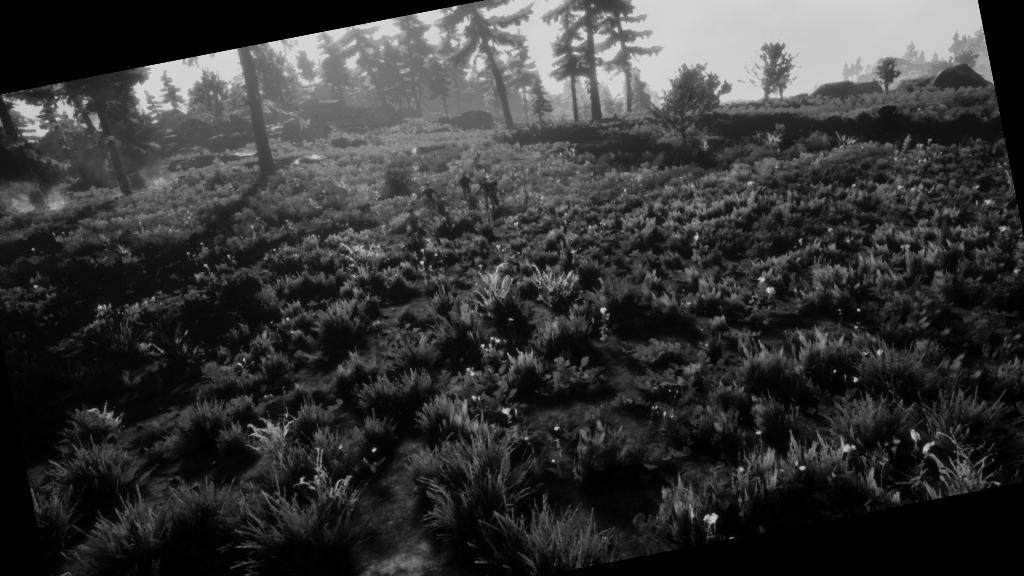Fire: (0, 171, 74, 224), (114, 160, 176, 200)
human: (474, 154, 510, 217), (410, 169, 448, 220), (446, 159, 479, 212), (396, 200, 426, 248)
smoke: (91, 101, 170, 167), (0, 108, 62, 186)
